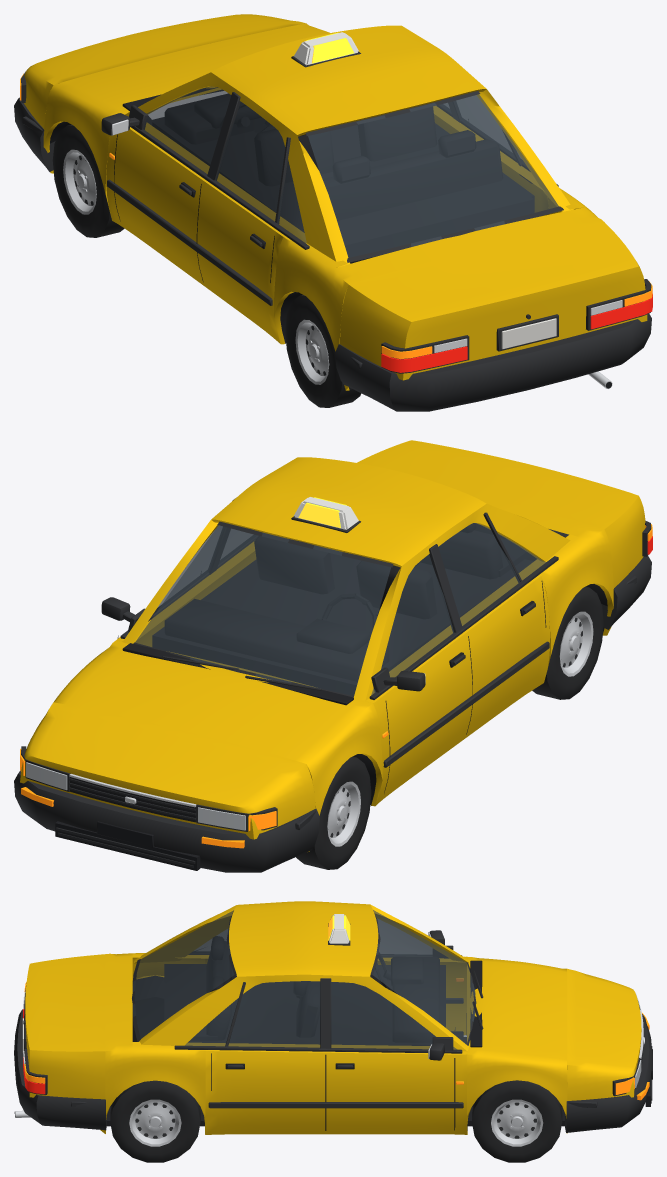
Rendered from VH_Taxi_Corolla.fbx.
The picture shows the model from 3 angles, top to bottom: view 1: azimuth 30°, elevation 25°; view 2: azimuth 150°, elevation 25°; view 3: azimuth 270°, elevation 25°; orthographic projection. The views are drawn at different scales.
Visible parts, largest first — view 1: Carrosserie, Vitres, Interieur, Plastiques, Roue_RL, Roue_FL, Feux, Lumignon, Plaques, Clignotants; view 2: Carrosserie, Vitres, Interieur, Plastiques, Roue_FL, Roue_RL, Phares, Lumignon, Clignotants; view 3: Carrosserie, Vitres, Interieur, Plastiques, Roue_FR, Roue_RR, Lumignon, Clignotants.
Boxes of the visible parts, left/top/right/bottom form: Carrosserie: left=24, top=14, right=647, bottom=390; Vitres: left=143, top=86, right=558, bottom=257; Interieur: left=152, top=93, right=534, bottom=263; Plastiques: left=14, top=51, right=651, bottom=411; Roue_RL: left=285, top=295, right=361, bottom=407; Roue_FL: left=52, top=124, right=124, bottom=237; Feux: left=381, top=294, right=652, bottom=372; Lumignon: left=294, top=32, right=358, bottom=65; Plaques: left=501, top=318, right=556, bottom=349; Clignotants: left=20, top=73, right=652, bottom=359; Carrosserie: left=20, top=440, right=645, bottom=852; Vitres: left=135, top=523, right=545, bottom=695; Interieur: left=152, top=523, right=533, bottom=695; Plastiques: left=14, top=498, right=651, bottom=872; Roue_FL: left=296, top=756, right=371, bottom=869; Roue_RL: left=532, top=586, right=603, bottom=699; Phares: left=26, top=762, right=245, bottom=830; Lumignon: left=294, top=497, right=358, bottom=529; Clignotants: left=20, top=524, right=652, bottom=848; Carrosserie: left=25, top=901, right=641, bottom=1134; Vitres: left=132, top=910, right=475, bottom=1049; Interieur: left=164, top=936, right=445, bottom=1045; Plastiques: left=14, top=910, right=652, bottom=1132; Roue_FR: left=472, top=1080, right=562, bottom=1162; Roue_RR: left=110, top=1080, right=200, bottom=1162; Lumignon: left=328, top=914, right=350, bottom=943; Clignotants: left=24, top=978, right=649, bottom=1100.
Bounding box in the file's own units: 1.94 × 4.31 × 1.43.
